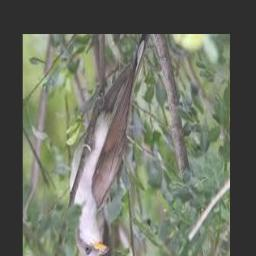Cuckoo: (70, 36, 147, 256)
